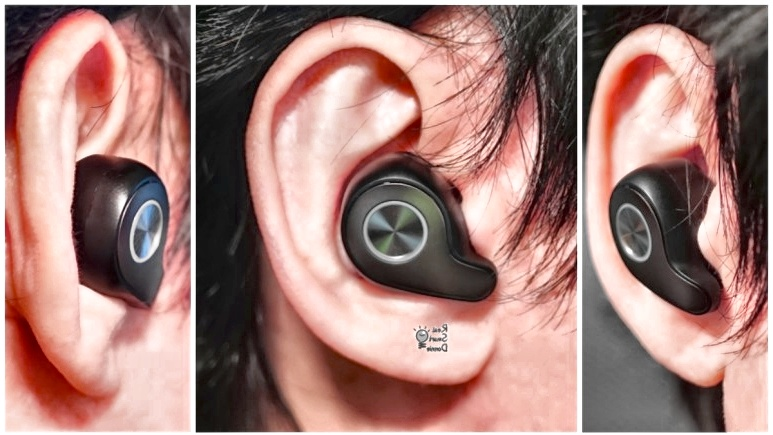earphone: (246, 17, 498, 386), (15, 10, 168, 398), (585, 24, 729, 387)
